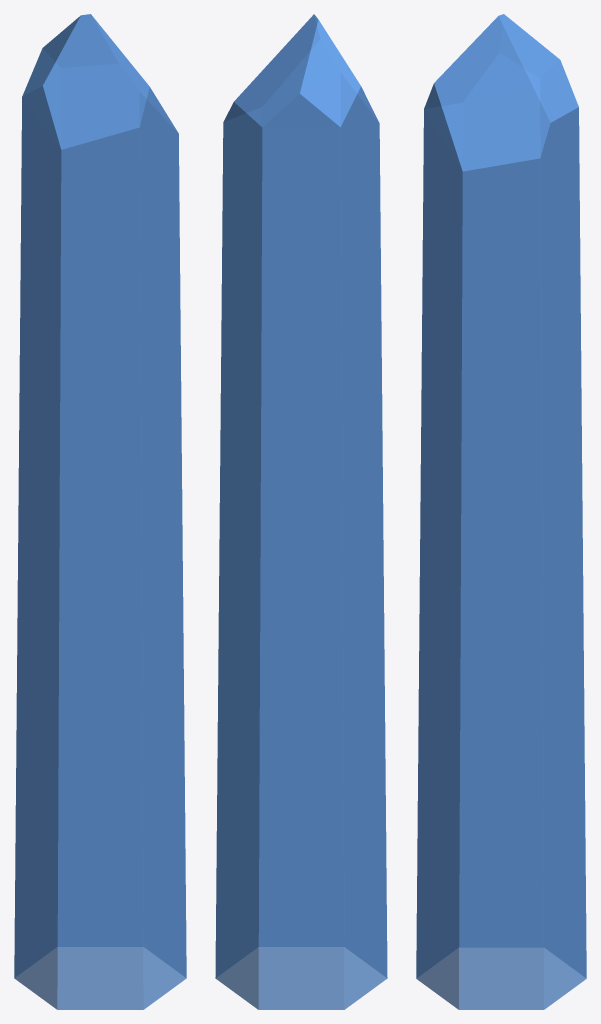
The model's file is Crystal_m_08.fbx.
3 renders of one model, left to right at view 1: azimuth 30°, elevation 25°; view 2: azimuth 150°, elevation 25°; view 3: azimuth 270°, elevation 25°, orthographic.
Parts seen in each view (by area): view 1: Crystal_m_08; view 2: Crystal_m_08; view 3: Crystal_m_08.
Boxes of the visible parts, left/top/right/bottom form: Crystal_m_08: left=14, top=14, right=186, bottom=1009; Crystal_m_08: left=215, top=14, right=387, bottom=1009; Crystal_m_08: left=416, top=14, right=586, bottom=1009.
Bounding box in the file's own units: 36.41 × 261 × 42.04.
